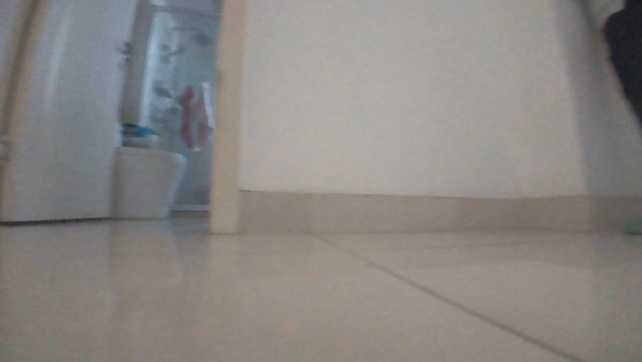door_anno: (1, 0, 142, 225)
toilet: (116, 140, 189, 223)
